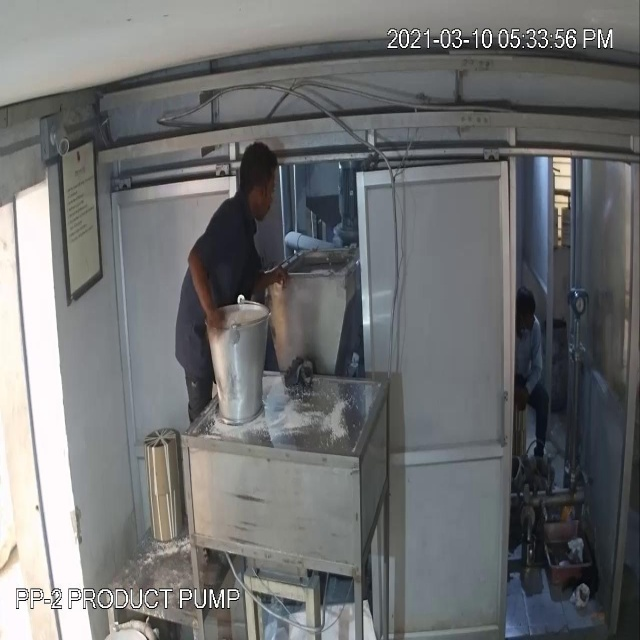Sin_guantes: (180, 240, 239, 356), (254, 260, 290, 295)
